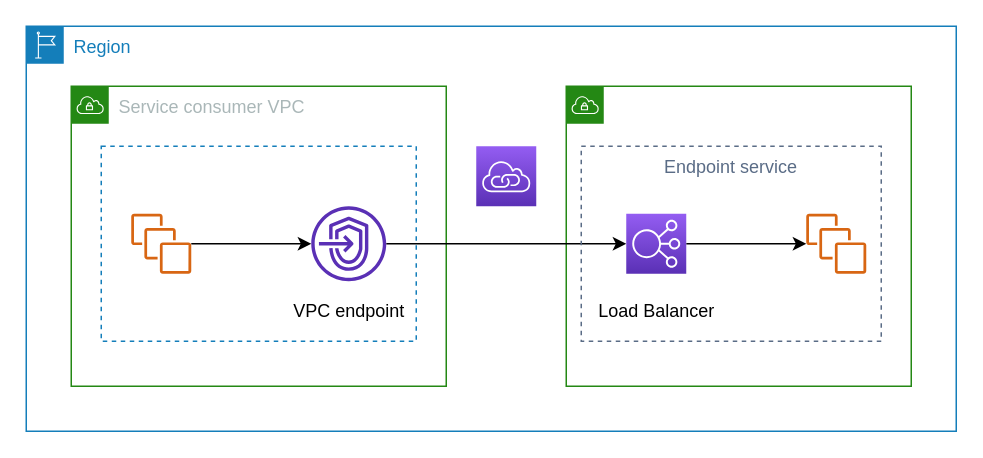
Image size: 983x458. Some labels were removed from this diagram. Each missing label, with the box of its shape:
Availability Zone: (100, 145, 416, 341)
Service provider VPC: (565, 85, 911, 386)
